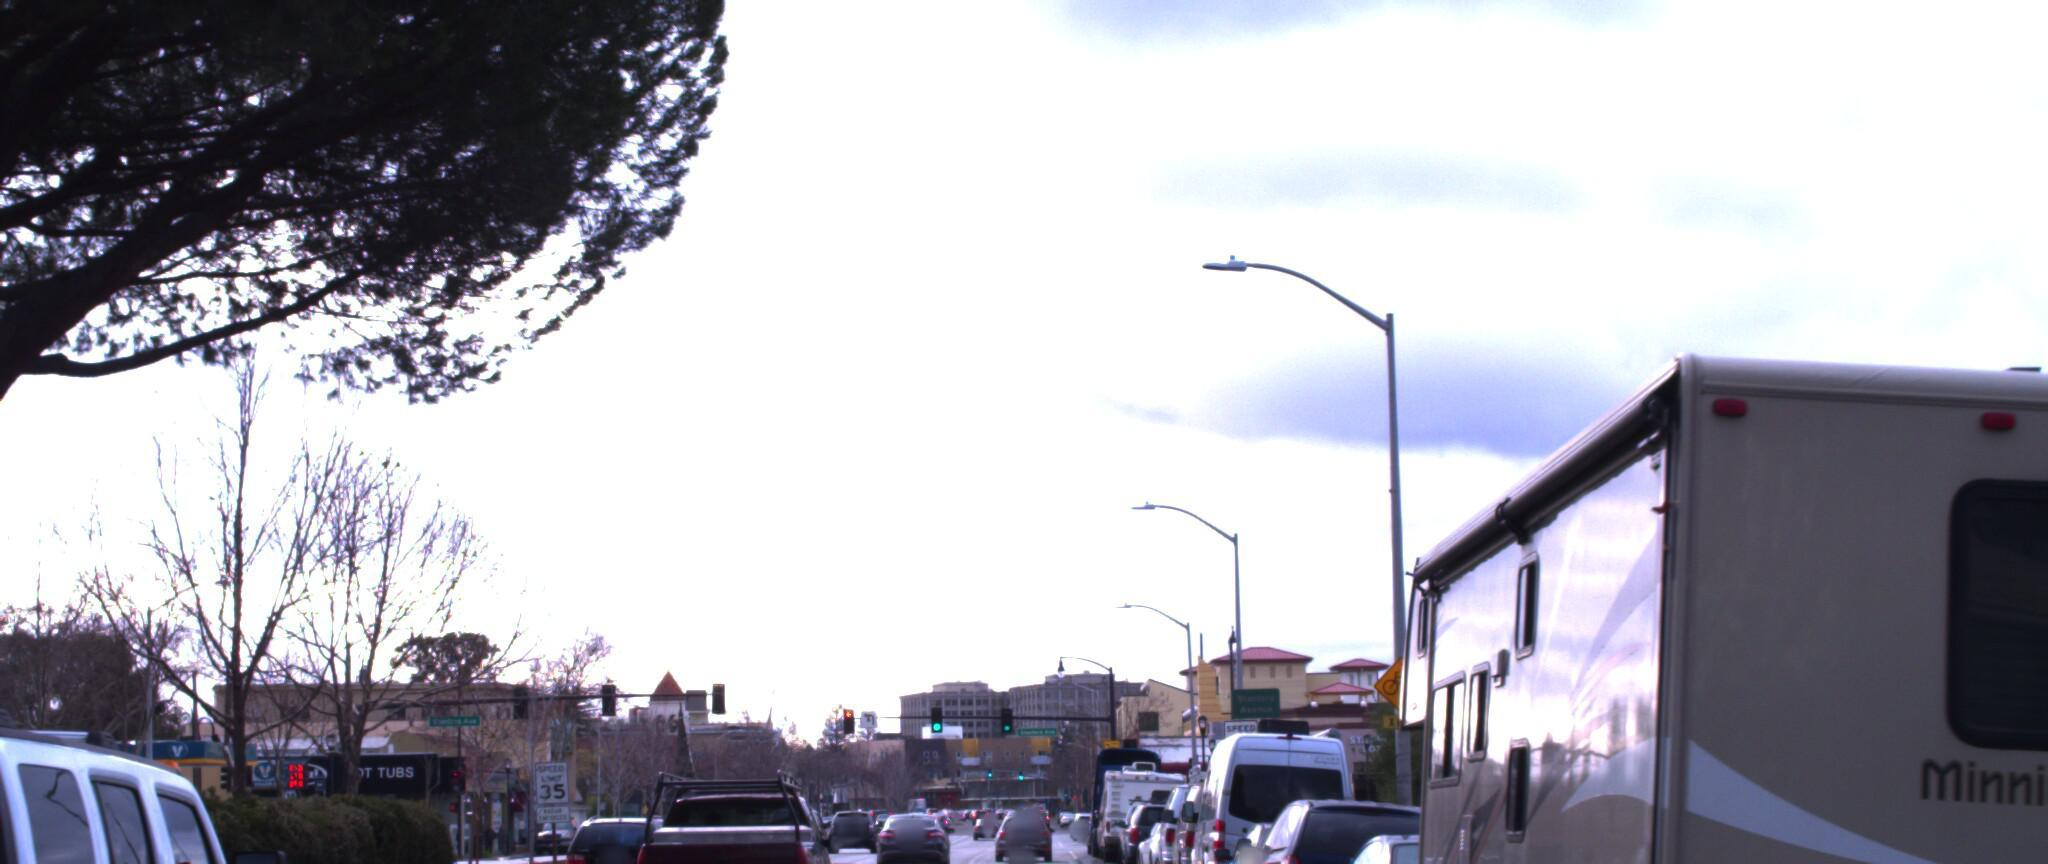car: (0, 697, 344, 864), (1191, 707, 1373, 864), (628, 764, 844, 864), (1358, 820, 1749, 864), (1238, 790, 1462, 864), (1297, 822, 1575, 864), (874, 800, 952, 864)
other_vehicle: (1349, 311, 2048, 864)
